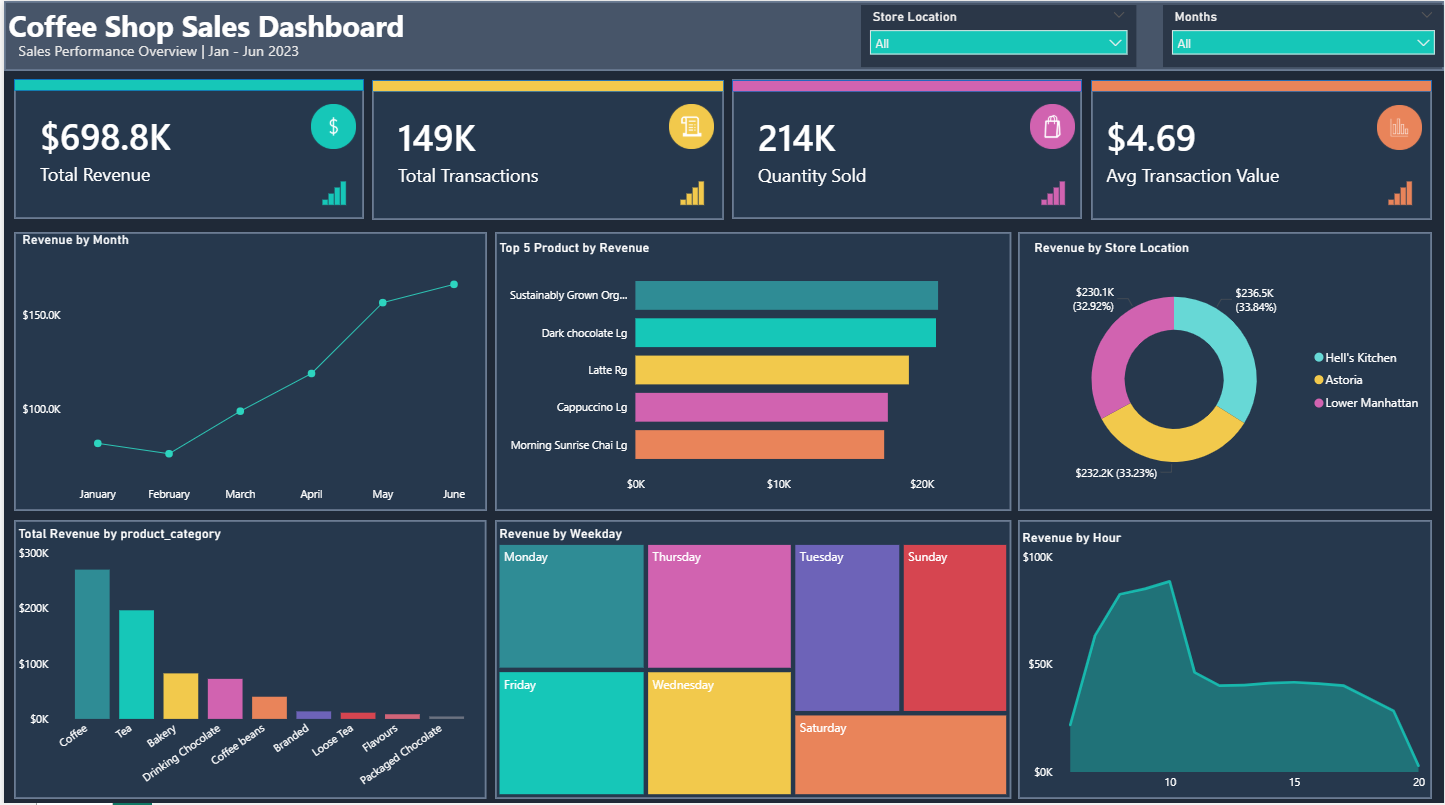

The page's visual inventory and layout, read from the dashboard file:
{"tool":"powerbi","page":{"name":"Page 1","canvas":[1600,900],"ordinal":0},"visuals":[{"type":"shape","box":[0,0,1600,77.8],"z":0},{"type":"shape","box":[11.1,256.7,525.6,310],"z":1000},{"type":"shape","box":[545,256.2,573.8,310],"z":2000},{"type":"shape","box":[1207.8,87.8,378.9,155.6],"z":3000},{"type":"shape","box":[545,576.2,573.8,310],"z":4000},{"type":"shape","box":[1126.2,256.2,460,310],"z":5000},{"type":"shape","box":[1126.2,576.2,460,310],"z":6000},{"type":"shape","box":[11.2,576.2,525,310],"z":7000},{"type":"lineChart","title":"Revenue by Month","fields":{"Category":["Date_Dim.Month Name"],"Y":["Calculations.Total Revenue"]},"box":[15.6,256.7,521.1,310],"z":8000},{"type":"donutChart","title":"Revenue by Store Location","fields":{"Category":["Store_Dim.store_location"],"Y":["Calculations.Total Revenue"]},"box":[1140,265,446.2,293.8],"z":9000},{"type":"columnChart","fields":{"Category":["Product_Dim.product_category"],"Y":["Calculations.Total Revenue"]},"box":[11.1,583.3,525.6,303.3],"z":10000},{"type":"areaChart","title":"Revenue by Hour","fields":{"Category":["Sales.Hour"],"Y":["Calculations.Total Revenue"]},"box":[1126.7,587.8,460,298.9],"z":11000},{"type":"clusteredBarChart","title":"Top 5 Product by Revenue","fields":{"Category":["Product_Dim.product_detail"],"Y":["Calculations.Total Revenue"]},"box":[545,265,572.5,290],"z":12000},{"type":"shape","box":[11.1,86.7,388.9,155.6],"z":13000},{"type":"shape","box":[408.9,87.8,391.1,155.6],"z":14000},{"type":"shape","box":[808.9,86.7,388.9,155.6],"z":15000},{"type":"treemap","title":"Revenue by Weekday","fields":{"Group":["Date_Dim.Weekday"],"Values":["Calculations.Total Revenue"]},"box":[545.6,583.3,573.3,303.3],"z":16000},{"type":"cardVisual","fields":{"Data":["Calculations.Total Revenue"]},"box":[11.1,86.7,388.9,154.4],"z":17000},{"type":"cardVisual","fields":{"Data":["Calculations.Total Transactions"]},"box":[408.9,87.8,391.1,154.4],"z":18000},{"type":"cardVisual","fields":{"Data":["Calculations.Quantity Sold"]},"box":[808.9,87.8,388.9,154.4],"z":19000},{"type":"cardVisual","fields":{"Data":["Calculations.Avg Transaction Value"]},"box":[1207.8,87.8,378.9,154.4],"z":20000},{"type":"image","box":[341.1,114.4,50,50],"z":21000},{"type":"image","box":[738.9,114.4,50,50],"z":22000},{"type":"image","box":[1140,114.4,50,50],"z":23000},{"type":"image","box":[1525.6,115.6,50,50],"z":24000},{"type":"shape","box":[11.1,86.7,388.9,13.3],"z":25000},{"type":"shape","box":[408.9,87.8,391.1,13.3],"z":26000},{"type":"shape","box":[808.9,87.8,388.9,13.3],"z":27000},{"type":"shape","box":[1207.8,87.8,378.9,13.3],"z":28000},{"type":"image","box":[348.9,195.6,35.6,35.6],"z":29000},{"type":"image","box":[746.7,195.6,35.6,35.6],"z":30000},{"type":"image","box":[1147.8,195.6,35.6,35.6],"z":31000},{"type":"image","box":[1533.3,195.6,35.6,35.6],"z":32000},{"type":"textbox","box":[0,0,517.8,58.9],"z":33000},{"type":"textbox","box":[11.1,38.9,574.4,90],"z":34000},{"type":"slicer","fields":{"Values":["Store_Dim.store_location"]},"box":[952.2,4.4,305.6,68.9],"z":35000},{"type":"slicer","fields":{"Values":["Date_Dim.Month Name"]},"box":[1287.8,4.4,312.2,68.9],"z":35001}]}

Visuals, with their boxes in screenshot pixels (x1, y1, x2, y2), scaled from the page's 1600x900 canvas onto the 1445x805 screenshot:
shape: box(0, 0, 1444, 70)
shape: box(10, 230, 485, 507)
shape: box(492, 229, 1010, 506)
shape: box(1091, 79, 1433, 218)
shape: box(492, 515, 1010, 793)
shape: box(1017, 229, 1433, 506)
shape: box(1017, 515, 1433, 793)
shape: box(10, 515, 484, 793)
"Revenue by Month" lineChart: box(14, 230, 485, 507)
"Revenue by Store Location" donutChart: box(1030, 237, 1433, 500)
columnChart - Product_Dim.product_category x Calculations.Total Revenue: box(10, 522, 485, 793)
"Revenue by Hour" areaChart: box(1018, 526, 1433, 793)
"Top 5 Product by Revenue" clusteredBarChart: box(492, 237, 1009, 496)
shape: box(10, 78, 361, 217)
shape: box(369, 79, 722, 218)
shape: box(731, 78, 1082, 217)
"Revenue by Weekday" treemap: box(493, 522, 1011, 793)
cardVisual - Calculations.Total Revenue: box(10, 78, 361, 216)
cardVisual - Calculations.Total Transactions: box(369, 79, 722, 217)
cardVisual - Calculations.Quantity Sold: box(731, 79, 1082, 217)
cardVisual - Calculations.Avg Transaction Value: box(1091, 79, 1433, 217)
image: box(308, 102, 353, 147)
image: box(667, 102, 712, 147)
image: box(1030, 102, 1075, 147)
image: box(1378, 103, 1423, 148)
shape: box(10, 78, 361, 89)
shape: box(369, 79, 722, 90)
shape: box(731, 79, 1082, 90)
shape: box(1091, 79, 1433, 90)
image: box(315, 175, 347, 207)
image: box(674, 175, 707, 207)
image: box(1037, 175, 1069, 207)
image: box(1385, 175, 1417, 207)
textbox: box(0, 0, 468, 53)
textbox: box(10, 35, 529, 115)
slicer - Store_Dim.store_location: box(860, 4, 1136, 66)
slicer - Date_Dim.Month Name: box(1163, 4, 1444, 66)
